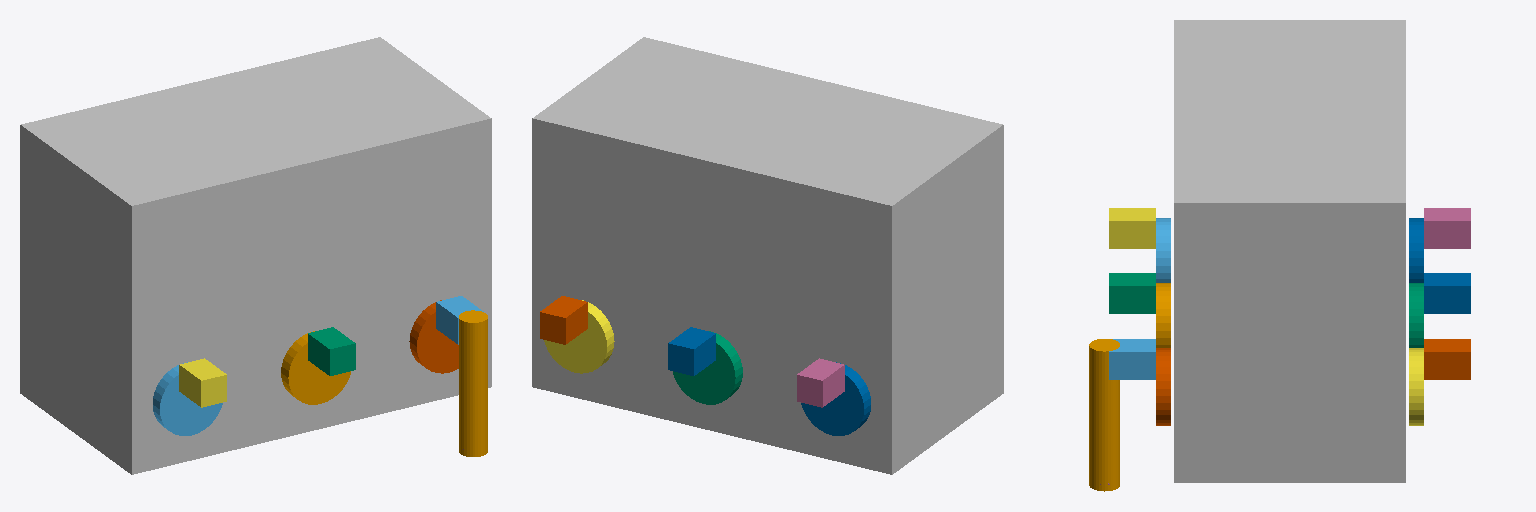
The robot description file, URDF, robot "oruga":
<robot name="oruga" version="1.0">
  <joint name="Cone_link_joint" type="fixed">
    <origin rpy="3.14159 -0.00000 3.14159" xyz="0.00000 -0.01800 -0.04000"/>
    <parent link="Cube.001_link"/>
    <child link="Cone_link"/>
  </joint>
  <joint name="Cube.001_link_joint" type="fixed">
    <origin rpy="-1.57080 0.00000 0.00000" xyz="0.00000 0.02000 0.02000"/>
    <parent link="Cylinder_link"/>
    <child link="Cube.001_link"/>
  </joint>
  <joint name="Cube.002_link_joint" type="fixed">
    <origin rpy="-1.57080 0.00000 0.00000" xyz="0.00000 0.02000 0.02000"/>
    <parent link="Cylinder.001_link"/>
    <child link="Cube.002_link"/>
  </joint>
  <joint name="Cube.004_link_joint" type="fixed">
    <origin rpy="-1.57080 0.00000 0.00000" xyz="-0.00000 0.02000 0.02000"/>
    <parent link="Cylinder.002_link"/>
    <child link="Cube.004_link"/>
  </joint>
  <joint name="Cube.005_link_joint" type="fixed">
    <origin rpy="-1.57080 0.00000 0.00000" xyz="0.00000 0.02000 -0.02000"/>
    <parent link="Cylinder.003_link"/>
    <child link="Cube.005_link"/>
  </joint>
  <joint name="Cube.006_link_joint" type="fixed">
    <origin rpy="-1.57080 0.00000 0.00000" xyz="0.00000 0.02000 -0.02000"/>
    <parent link="Cylinder.004_link"/>
    <child link="Cube.006_link"/>
  </joint>
  <joint name="Cube.007_link_joint" type="fixed">
    <origin rpy="-1.57080 0.00000 0.00000" xyz="-0.00000 0.02000 -0.02000"/>
    <parent link="Cylinder.005_link"/>
    <child link="Cube.007_link"/>
  </joint>
  <joint name="Cylinder.001_link_joint" type="continuous">
    <limit lower="0" upper="0" effort="100.00000" velocity="100.00000"/>
    <origin rpy="1.57080 0.00000 0.00000" xyz="0.00000 -0.08200 -0.05000"/>
    <parent link="Cube_link"/>
    <child link="Cylinder.001_link"/>
    <axis xyz="0.00000 0.00000 1.00000"/>
  </joint>
  <joint name="Cylinder.002_link_joint" type="continuous">
    <limit lower="0" upper="0" effort="100.00000" velocity="100.00000"/>
    <origin rpy="1.57080 0.00000 0.00000" xyz="-0.10000 -0.08200 -0.05000"/>
    <parent link="Cube_link"/>
    <child link="Cylinder.002_link"/>
    <axis xyz="0.00000 0.00000 1.00000"/>
  </joint>
  <joint name="Cylinder.003_link_joint" type="continuous">
    <limit lower="0" upper="0" effort="100.00000" velocity="100.00000"/>
    <origin rpy="1.57080 0.00000 0.00000" xyz="0.00000 0.08200 -0.05000"/>
    <parent link="Cube_link"/>
    <child link="Cylinder.003_link"/>
    <axis xyz="0.00000 0.00000 1.00000"/>
  </joint>
  <joint name="Cylinder.004_link_joint" type="continuous">
    <limit lower="0" upper="0" effort="100.00000" velocity="100.00000"/>
    <origin rpy="1.57080 0.00000 0.00000" xyz="0.10000 0.08200 -0.05000"/>
    <parent link="Cube_link"/>
    <child link="Cylinder.004_link"/>
    <axis xyz="0.00000 0.00000 1.00000"/>
  </joint>
  <joint name="Cylinder.005_link_joint" type="continuous">
    <limit lower="0" upper="0" effort="100.00000" velocity="100.00000"/>
    <origin rpy="1.57080 0.00000 0.00000" xyz="-0.10000 0.08200 -0.05000"/>
    <parent link="Cube_link"/>
    <child link="Cylinder.005_link"/>
    <axis xyz="0.00000 0.00000 1.00000"/>
  </joint>
  <joint name="Cylinder_link_joint" type="continuous">
    <limit lower="0" upper="0" effort="100.00000" velocity="100.00000"/>
    <origin rpy="1.57080 0.00000 0.00000" xyz="0.10000 -0.08200 -0.05000"/>
    <parent link="Cube_link"/>
    <child link="Cylinder_link"/>
    <axis xyz="0.00000 0.00000 1.00000"/>
  </joint>
  <joint name="Torus_link_joint" type="fixed">
    <origin rpy="1.57080 -1.57080 3.14159" xyz="0.00000 0.00000 0.04500"/>
    <parent link="Cone_link"/>
    <child link="Torus_link"/>
  </joint>
  <link name="Cone_link">
    <inertial>
      <inertia ixx="0.00001" ixy="0.00000" ixz="-0.00000" iyy="0.00001" iyz="0.00000" izz="0.00000"/>
      <origin rpy="0.00000 0.00000 0.00000" xyz="0.00000 0.00000 -0.00000"/>
      <mass value="0.01000"/>
    </inertial>
    <visual name="Cone">
      <origin rpy="0.00000 -0.00000 0.00000" xyz="0.00000 0.00000 0.00000"/>
      <geometry>
        <cylinder radius="0.01000" length="0.10000"/>
      </geometry>
    </visual>
  </link>
  <link name="Cube.001_link">
    <inertial>
      <inertia ixx="0.00000" ixy="0.00000" ixz="0.00000" iyy="0.00000" iyz="0.00000" izz="0.00000"/>
      <origin rpy="0.00000 0.00000 0.00000" xyz="0.00000 -0.00000 0.00000"/>
      <mass value="0.01000"/>
    </inertial>
    <visual name="Cube.001">
      <origin rpy="0.00000 0.00000 0.00000" xyz="0.00000 0.00000 0.00000"/>
      <geometry>
        <box size="0.02000 0.03000 0.02000"/>
      </geometry>
    </visual>
  </link>
  <link name="Cube.002_link">
    <inertial>
      <inertia ixx="0.00000" ixy="0.00000" ixz="0.00000" iyy="0.00000" iyz="0.00000" izz="0.00000"/>
      <origin rpy="0.00000 0.00000 0.00000" xyz="0.00000 -0.00000 0.00000"/>
      <mass value="0.01000"/>
    </inertial>
    <visual name="Cube.002">
      <origin rpy="0.00000 0.00000 0.00000" xyz="0.00000 0.00000 0.00000"/>
      <geometry>
        <box size="0.02000 0.03000 0.02000"/>
      </geometry>
    </visual>
  </link>
  <link name="Cube.004_link">
    <inertial>
      <inertia ixx="0.00000" ixy="0.00000" ixz="0.00000" iyy="0.00000" iyz="0.00000" izz="0.00000"/>
      <origin rpy="0.00000 0.00000 0.00000" xyz="0.00000 -0.00000 0.00000"/>
      <mass value="0.01000"/>
    </inertial>
    <visual name="Cube.004">
      <origin rpy="0.00000 0.00000 0.00000" xyz="0.00000 0.00000 0.00000"/>
      <geometry>
        <box size="0.02000 0.03000 0.02000"/>
      </geometry>
    </visual>
  </link>
  <link name="Cube.005_link">
    <inertial>
      <inertia ixx="0.00000" ixy="0.00000" ixz="0.00000" iyy="0.00000" iyz="0.00000" izz="0.00000"/>
      <origin rpy="0.00000 0.00000 0.00000" xyz="0.00000 0.00000 0.00000"/>
      <mass value="0.01000"/>
    </inertial>
    <visual name="Cube.005">
      <origin rpy="0.00000 0.00000 0.00000" xyz="0.00000 0.00000 0.00000"/>
      <geometry>
        <box size="0.02000 0.03000 0.02000"/>
      </geometry>
    </visual>
  </link>
  <link name="Cube.006_link">
    <inertial>
      <inertia ixx="0.00000" ixy="0.00000" ixz="0.00000" iyy="0.00000" iyz="0.00000" izz="0.00000"/>
      <origin rpy="0.00000 0.00000 0.00000" xyz="0.00000 0.00000 0.00000"/>
      <mass value="0.01000"/>
    </inertial>
    <visual name="Cube.006">
      <origin rpy="0.00000 0.00000 0.00000" xyz="0.00000 0.00000 0.00000"/>
      <geometry>
        <box size="0.02000 0.03000 0.02000"/>
      </geometry>
    </visual>
  </link>
  <link name="Cube.007_link">
    <inertial>
      <inertia ixx="0.00000" ixy="0.00000" ixz="0.00000" iyy="0.00000" iyz="0.00000" izz="0.00000"/>
      <origin rpy="0.00000 0.00000 0.00000" xyz="0.00000 0.00000 0.00000"/>
      <mass value="0.01000"/>
    </inertial>
    <visual name="Cube.007">
      <origin rpy="0.00000 0.00000 0.00000" xyz="0.00000 0.00000 0.00000"/>
      <geometry>
        <box size="0.02000 0.03000 0.02000"/>
      </geometry>
    </visual>
  </link>
  <link name="Cube_link">
    <collision name="Cube_collision">
      <origin rpy="0.00000 0.00000 0.00000" xyz="0.00000 0.00000 -0.00000"/>
      <geometry>
        <box size="0.28000 0.15000 0.20000"/>
      </geometry>
    </collision>
    <inertial>
      <inertia ixx="0.00521" ixy="0.00000" ixz="0.00000" iyy="0.00987" iyz="0.00000" izz="0.00841"/>
      <origin rpy="0.00000 0.00000 0.00000" xyz="0.00000 0.00000 -0.00000"/>
      <mass value="1.00000"/>
    </inertial>
    <visual name="Cube">
      <origin rpy="0.00000 0.00000 0.00000" xyz="0.00000 0.00000 -0.00000"/>
      <material name="Material"/>
      <geometry>
        <box size="0.28000 0.15000 0.20000"/>
      </geometry>
    </visual>
  </link>
  <link name="Cylinder.001_link">
    <inertial>
      <inertia ixx="0.00000" ixy="0.00000" ixz="0.00000" iyy="0.00000" iyz="0.00000" izz="0.00000"/>
      <origin rpy="0.00000 0.00000 0.00000" xyz="0.00000 -0.00000 0.00000"/>
      <mass value="0.01000"/>
    </inertial>
    <visual name="Cylinder.001">
      <origin rpy="0.00000 0.00000 0.00000" xyz="0.00000 0.00000 0.00000"/>
      <geometry>
        <cylinder radius="0.02500" length="0.01000"/>
      </geometry>
    </visual>
  </link>
  <link name="Cylinder.002_link">
    <inertial>
      <inertia ixx="0.00000" ixy="0.00000" ixz="0.00000" iyy="0.00000" iyz="0.00000" izz="0.00000"/>
      <origin rpy="0.00000 0.00000 0.00000" xyz="-0.00000 -0.00000 0.00000"/>
      <mass value="0.01000"/>
    </inertial>
    <visual name="Cylinder.002">
      <origin rpy="0.00000 0.00000 0.00000" xyz="-0.00000 0.00000 0.00000"/>
      <geometry>
        <cylinder radius="0.02500" length="0.01000"/>
      </geometry>
    </visual>
  </link>
  <link name="Cylinder.003_link">
    <inertial>
      <inertia ixx="0.00000" ixy="0.00000" ixz="0.00000" iyy="0.00000" iyz="0.00000" izz="0.00000"/>
      <origin rpy="0.00000 0.00000 0.00000" xyz="0.00000 0.00000 -0.00000"/>
      <mass value="0.01000"/>
    </inertial>
    <visual name="Cylinder.003">
      <origin rpy="0.00000 0.00000 0.00000" xyz="0.00000 0.00000 -0.00000"/>
      <geometry>
        <cylinder radius="0.02500" length="0.01000"/>
      </geometry>
    </visual>
  </link>
  <link name="Cylinder.004_link">
    <inertial>
      <inertia ixx="0.00000" ixy="0.00000" ixz="0.00000" iyy="0.00000" iyz="0.00000" izz="0.00000"/>
      <origin rpy="0.00000 0.00000 0.00000" xyz="0.00000 0.00000 -0.00000"/>
      <mass value="0.01000"/>
    </inertial>
    <visual name="Cylinder.004">
      <origin rpy="0.00000 0.00000 0.00000" xyz="0.00000 0.00000 -0.00000"/>
      <geometry>
        <cylinder radius="0.02500" length="0.01000"/>
      </geometry>
    </visual>
  </link>
  <link name="Cylinder.005_link">
    <inertial>
      <inertia ixx="0.00000" ixy="0.00000" ixz="0.00000" iyy="0.00000" iyz="0.00000" izz="0.00000"/>
      <origin rpy="0.00000 0.00000 0.00000" xyz="-0.00000 0.00000 -0.00000"/>
      <mass value="0.01000"/>
    </inertial>
    <visual name="Cylinder.005">
      <origin rpy="0.00000 0.00000 0.00000" xyz="-0.00000 0.00000 -0.00000"/>
      <geometry>
        <cylinder radius="0.02500" length="0.01000"/>
      </geometry>
    </visual>
  </link>
  <link name="Cylinder_link">
    <inertial>
      <inertia ixx="0.00000" ixy="0.00000" ixz="0.00000" iyy="0.00000" iyz="0.00000" izz="0.00000"/>
      <origin rpy="0.00000 0.00000 0.00000" xyz="0.00000 -0.00000 0.00000"/>
      <mass value="0.01000"/>
    </inertial>
    <visual name="Cylinder">
      <origin rpy="0.00000 0.00000 0.00000" xyz="0.00000 0.00000 0.00000"/>
      <geometry>
        <cylinder radius="0.02500" length="0.01000"/>
      </geometry>
    </visual>
  </link>
  <link name="Torus_link">
    <collision name="Torus_collision">
      <origin rpy="-0.00000 0.00000 -0.00000" xyz="-0.00000 -0.00000 -0.00000"/>
      <geometry>
        <mesh filename="../meshes/dae/Torus.dae" scale="0.00400 0.00800 0.02000"/>
      </geometry>
    </collision>
    <inertial>
      <inertia ixx="0.00000" ixy="-0.00000" ixz="0.00000" iyy="0.00000" iyz="-0.00000" izz="0.00000"/>
      <origin rpy="0.00000 0.00000 0.00000" xyz="-0.00000 -0.00000 -0.00000"/>
      <mass value="0.01000"/>
    </inertial>
    <visual name="Torus">
      <origin rpy="-0.00000 0.00000 0.00000" xyz="-0.00000 -0.00000 -0.00000"/>
      <geometry>
        <mesh filename="../meshes/dae/Torus.dae" scale="0.00400 0.00800 0.02000"/>
      </geometry>
    </visual>
  </link>
  <material name="Material">
    <color rgba="0.80000 0.80000 0.80000 1.00000"/>
  </material>
</robot>

--- Render facts (derived) ---
The picture shows the robot from 3 angles, left to right: view 1: azimuth 30°, elevation 25°; view 2: azimuth 150°, elevation 25°; view 3: azimuth 270°, elevation 25°; orthographic projection.
Robot: oruga — 15 links, 14 joints (6 continuous, 8 fixed); root link Cube_link; default pose: every joint at zero.
Visible links, largest first — view 1: Cube_link, Cone_link, Cylinder.001_link, Cylinder.002_link, Cylinder_link, Cube.004_link, Cube.002_link, Cube.001_link; view 2: Cube_link, Cylinder.003_link, Cylinder.004_link, Cylinder.005_link, Cube.006_link, Cube.007_link, Cube.005_link; view 3: Cube_link, Cone_link, Cube.002_link, Cube.004_link, Cube.005_link, Cube.006_link, Cube.007_link, Cube.001_link, Cylinder.004_link, Cylinder_link, Cylinder.001_link, Cylinder.002_link (+2 smaller).
Link boxes in pixels (x1,y1,x2,y2): Cube_link: (20, 37, 491, 474); Cone_link: (459, 310, 487, 456); Cylinder.001_link: (281, 331, 350, 404); Cylinder.002_link: (153, 362, 222, 435); Cylinder_link: (409, 300, 458, 373); Cube.004_link: (179, 358, 226, 407); Cube.002_link: (308, 327, 355, 375); Cube.001_link: (436, 296, 483, 344); Cube_link: (532, 37, 1003, 474); Cylinder.003_link: (673, 331, 742, 404); Cylinder.004_link: (544, 300, 614, 373); Cylinder.005_link: (801, 362, 870, 435); Cube.006_link: (540, 296, 587, 344); Cube.007_link: (797, 358, 844, 407); Cube.005_link: (668, 327, 715, 375); Cube_link: (1174, 20, 1405, 482); Cone_link: (1089, 339, 1119, 491); Cube.002_link: (1109, 273, 1155, 313); Cube.004_link: (1109, 208, 1155, 248); Cube.005_link: (1424, 273, 1470, 313); Cube.006_link: (1424, 339, 1470, 379); Cube.007_link: (1424, 208, 1470, 248); Cube.001_link: (1109, 339, 1155, 379); Cylinder.004_link: (1409, 348, 1423, 425); Cylinder_link: (1156, 348, 1170, 425); Cylinder.001_link: (1156, 283, 1170, 347); Cylinder.002_link: (1156, 218, 1170, 282).
Bounding box of the posed robot: 0.28 × 0.247 × 0.22 m (x, y, z).
1 mesh visuals loaded from 1 distinct referenced files (1 Collada DAE).
